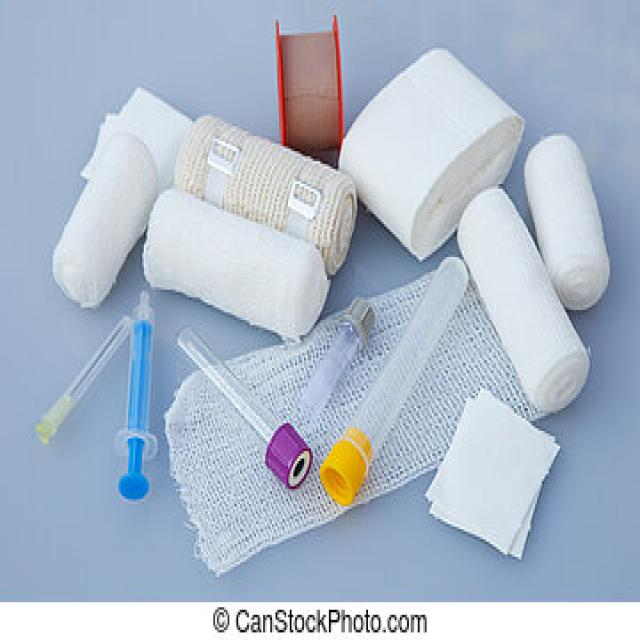B3: (447, 174, 598, 416), (519, 119, 633, 330), (109, 279, 167, 532)
